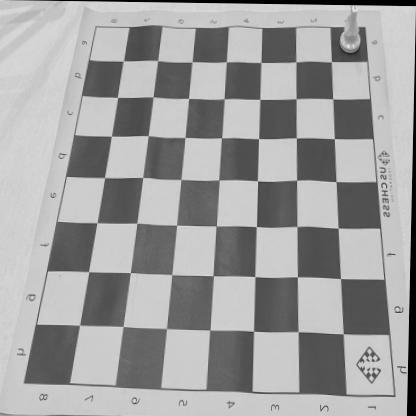white-knight: (338, 4, 362, 54)
